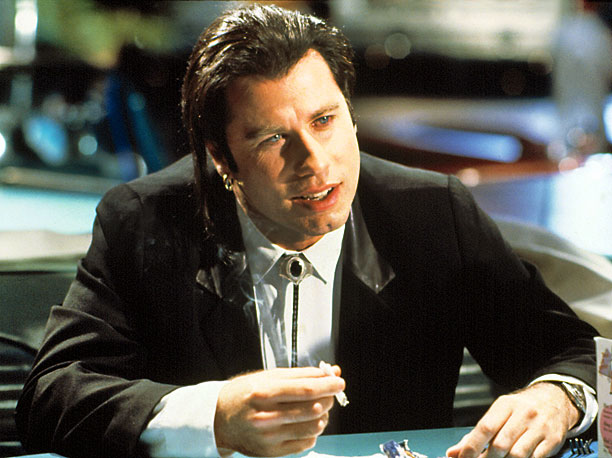cigarette: (311, 354, 355, 408)
